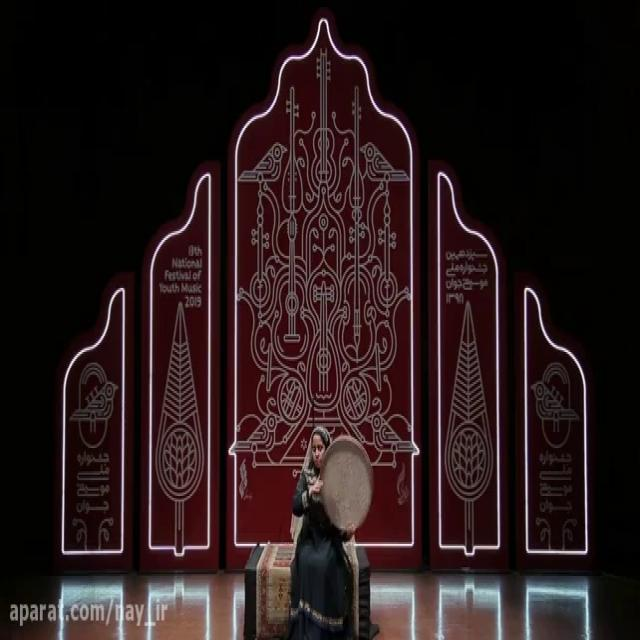Daf: (318, 436, 374, 535)
